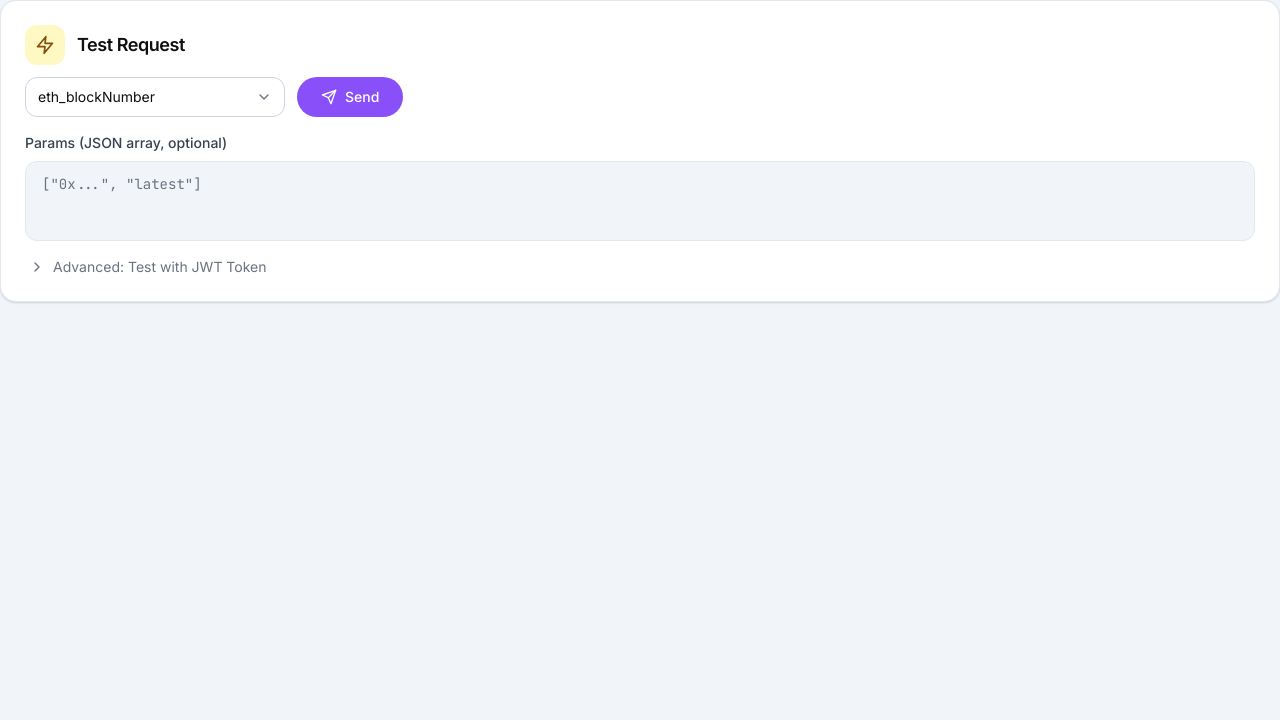
Test: TestRequestPanel › Method selection › switching from ERC20 back to RPC method hides contract fields, shows params textarea
This screenshot has width=1280, height=720.
First select ERC20 method
Click the dropdown.
click(155, 97)  # box [25, 77, 285, 117]
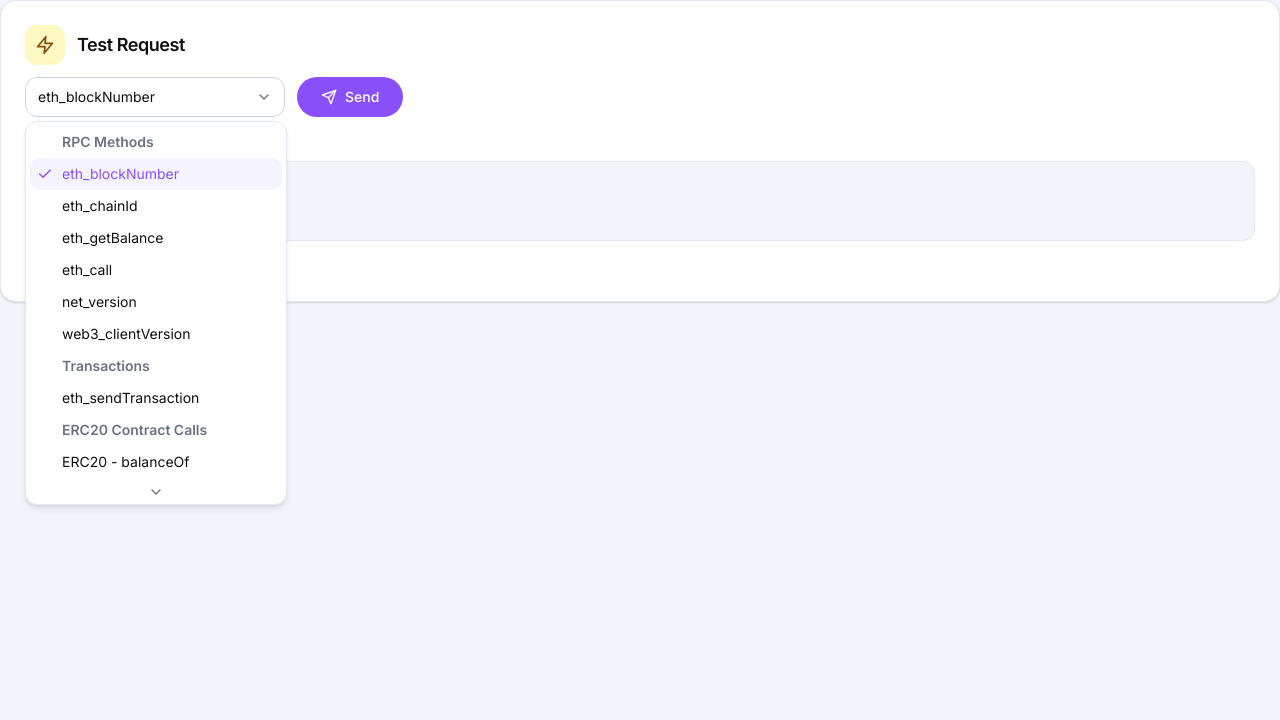
Click the option "ERC20 - balanceOf".
click(126, 462)  # box [62, 453, 190, 470]
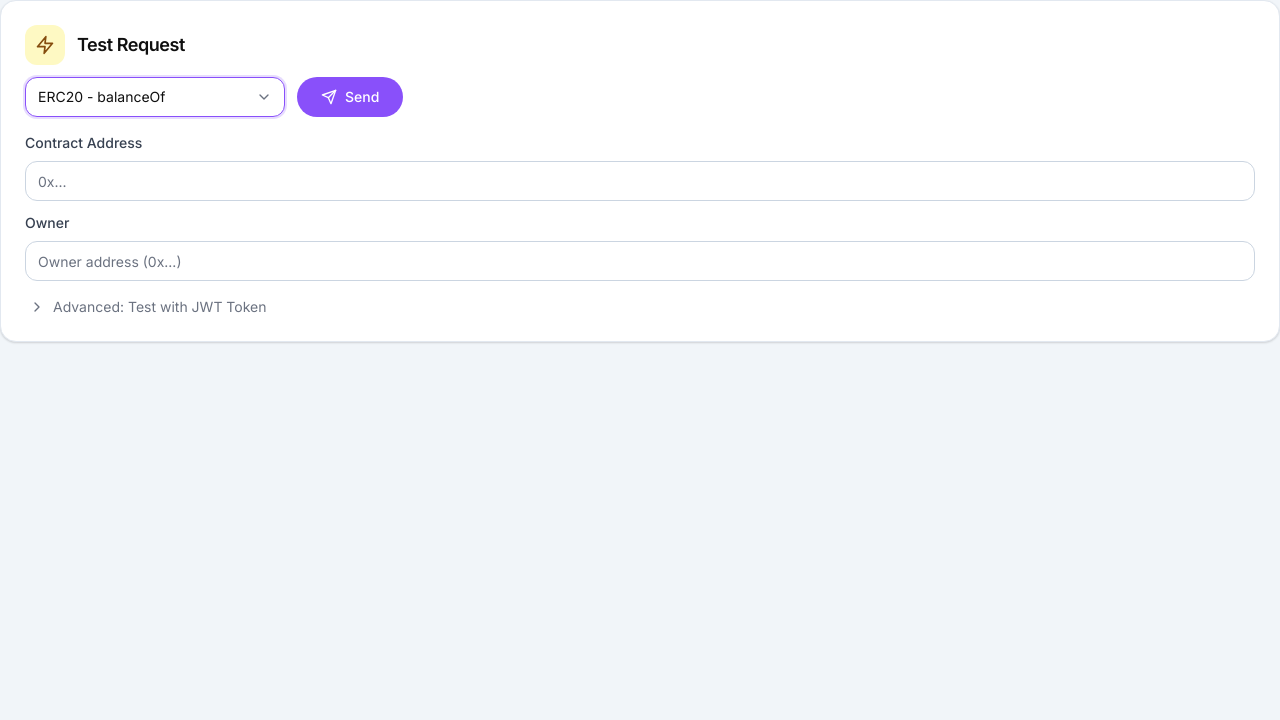
Now the text "Contract Address" is shown, box [25, 134, 142, 151]
Now the text "Params (JSON array, optional)" is gone
Switch back to RPC method
Click the dropdown.
click(155, 97)  # box [25, 77, 285, 117]
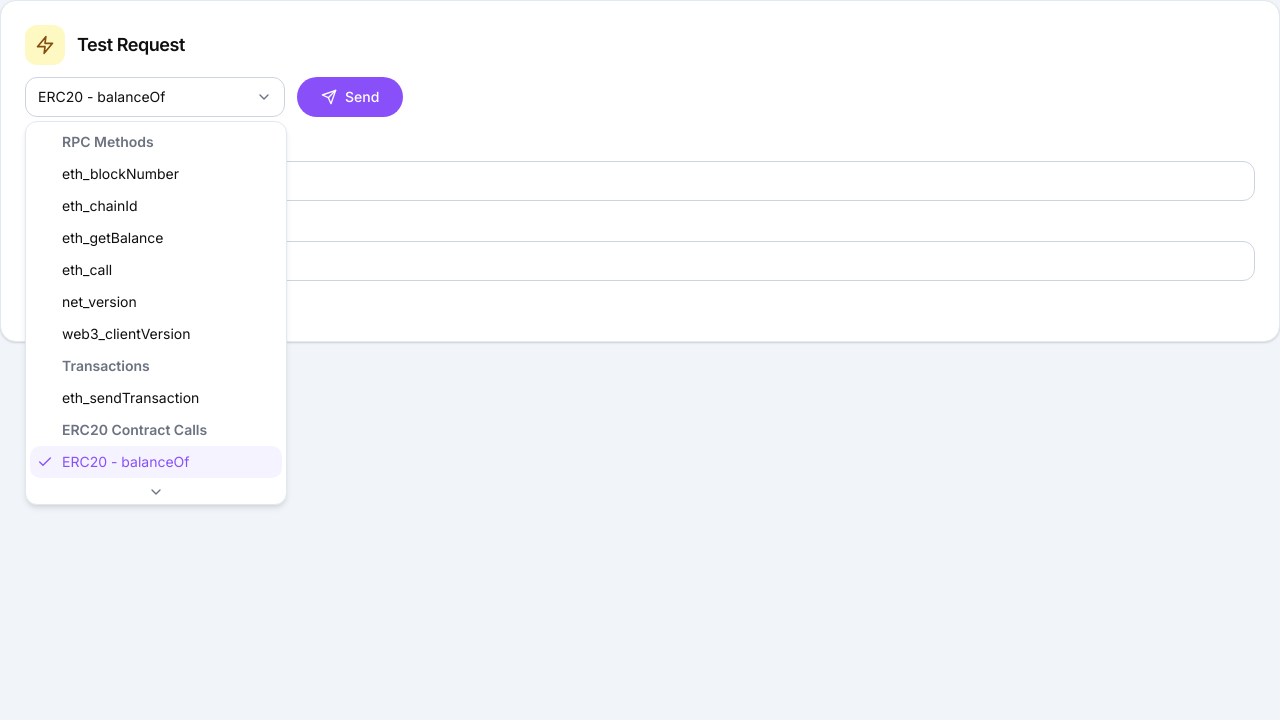
Click the option "eth_chainId".
click(100, 206)  # box [62, 197, 138, 214]
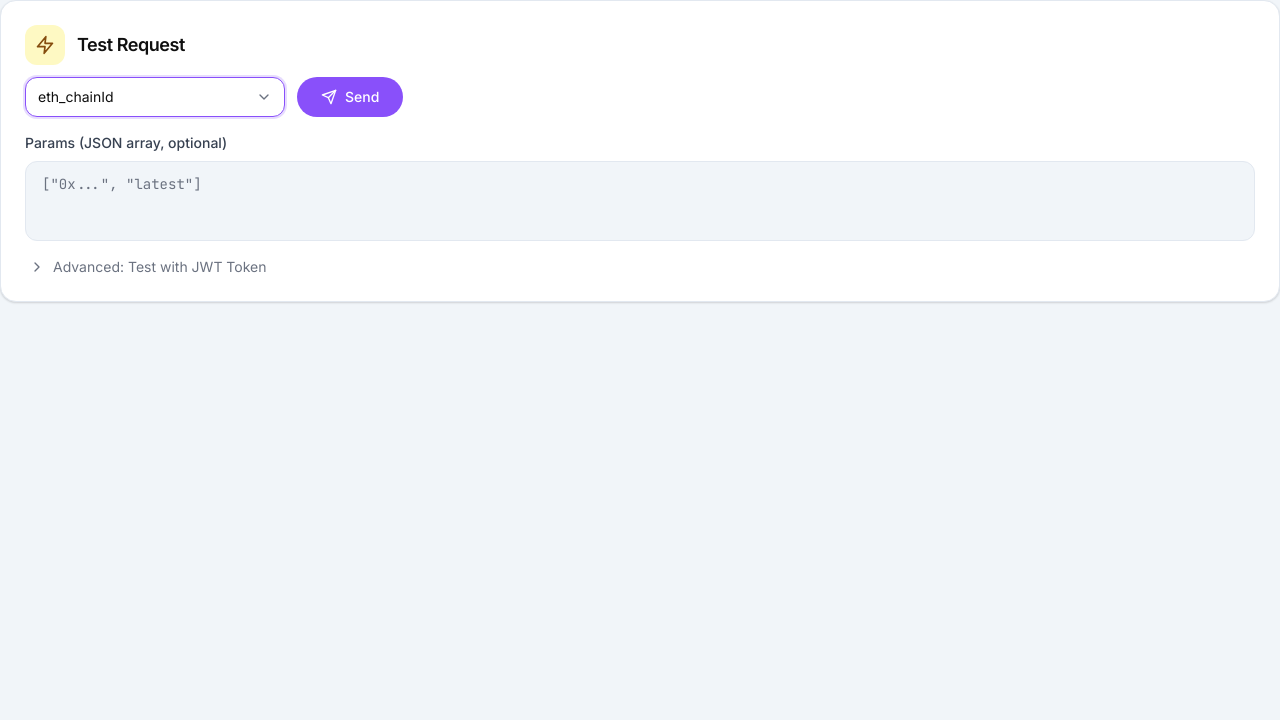
Now the text "Contract Address" is gone
Now the text "Params (JSON array, optional)" is shown, box [25, 134, 227, 151]
